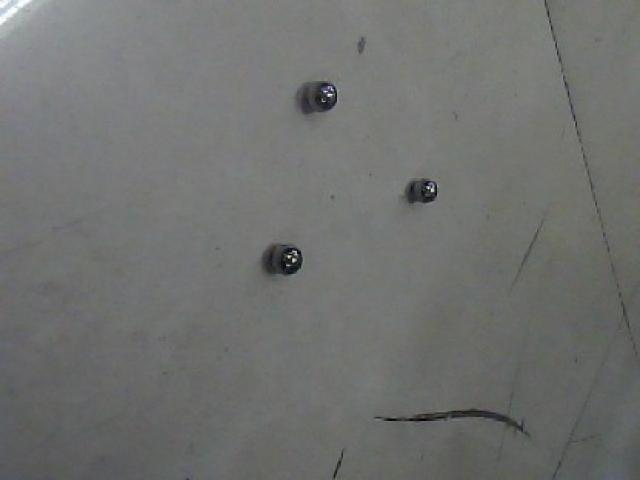steel-ball: (286, 63, 349, 137), (384, 154, 444, 220), (255, 222, 308, 289)
